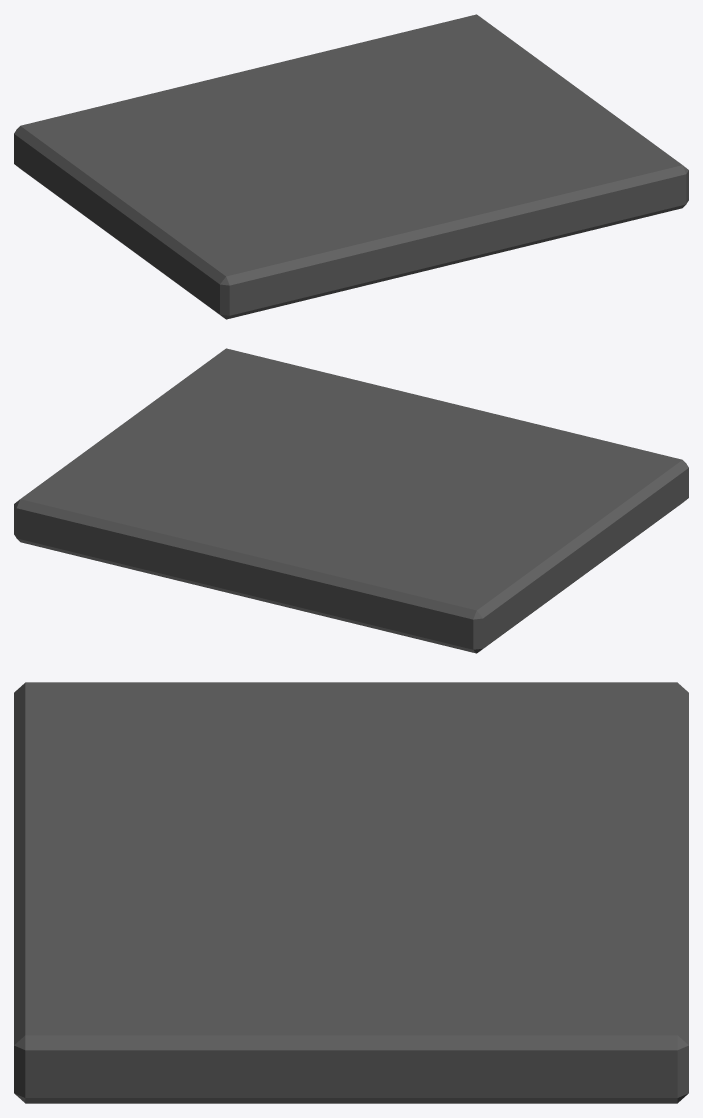
File: Bedroom_Mattress.fbx
3 views of the same model, one above another, from view 1: azimuth 30°, elevation 25°; view 2: azimuth 150°, elevation 25°; view 3: azimuth 270°, elevation 25° (orthographic). The views are drawn at different scales.
Parts seen in each view (by area): view 1: Bedroom_Mattress; view 2: Bedroom_Mattress; view 3: Bedroom_Mattress.
Part boxes in pixels (x1,y1,x2,y2): Bedroom_Mattress: (14, 14, 688, 319); Bedroom_Mattress: (14, 348, 688, 653); Bedroom_Mattress: (14, 682, 688, 1103).
Size of the model in its own units: 307 by 26.97 by 242.
